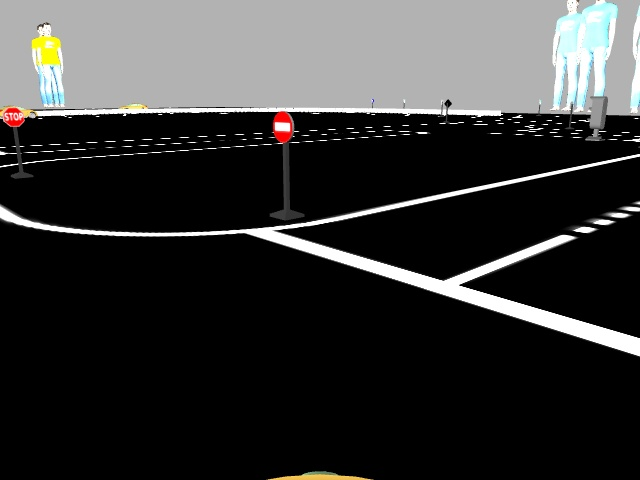NoEntry: (272, 110, 295, 143)
Stop: (0, 107, 27, 125)
